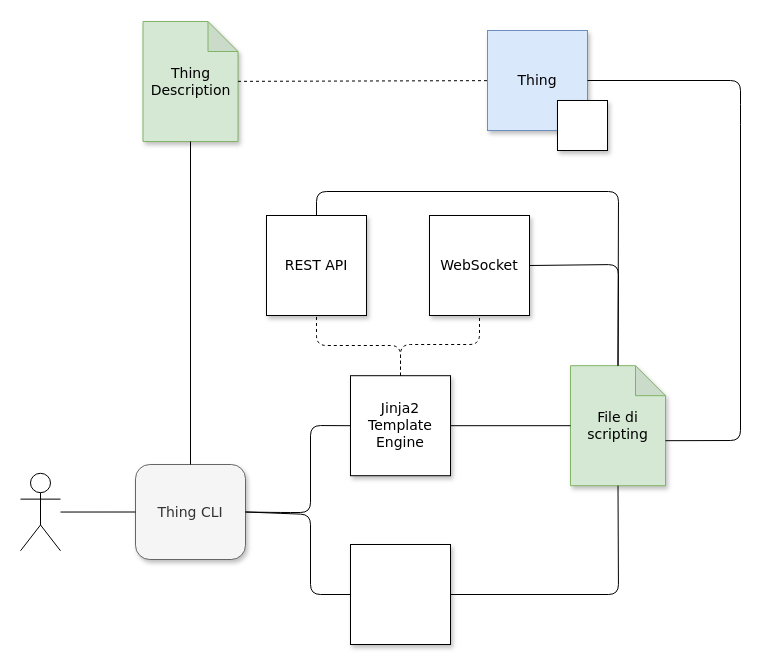
Some shapes in this 759 by 669 pixel diagram are drawn without their labels. The centre of each missing label's shape, as x and y in pixels:
Arduino-cli: (401,596)
Utente: (40,511)
Web Server: (583,127)
